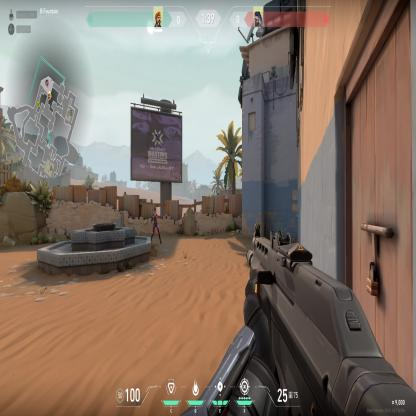enemy: (150, 207, 162, 245)
